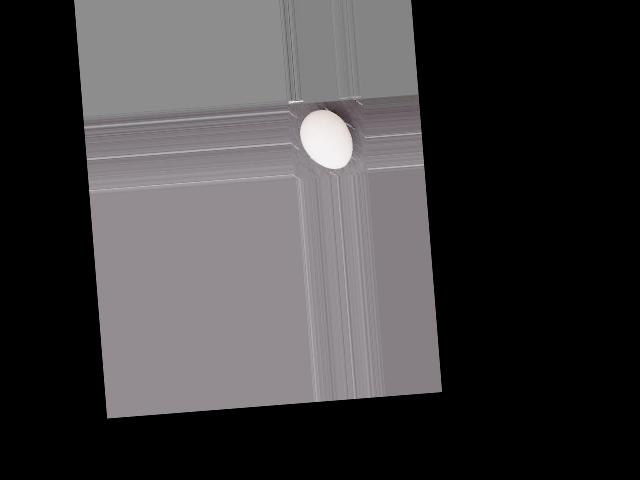egg: (298, 107, 354, 171)
